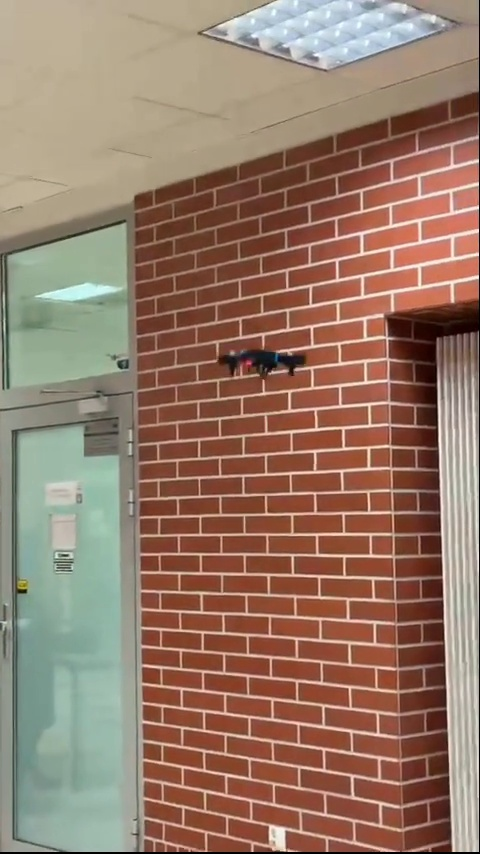drone: (221, 345, 305, 378)
